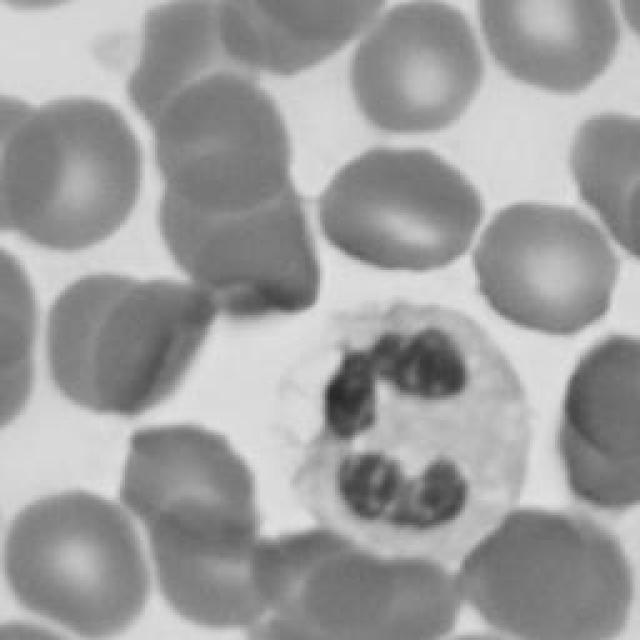RBC: (465, 506, 633, 636), (314, 148, 481, 278), (4, 488, 151, 634), (155, 202, 325, 322), (14, 98, 144, 252), (342, 0, 486, 138), (126, 0, 263, 142), (479, 200, 616, 335), (154, 79, 294, 201), (99, 285, 219, 417), (115, 425, 260, 533), (151, 502, 279, 622), (45, 268, 153, 408), (478, 0, 620, 90), (220, 0, 382, 68), (250, 530, 382, 612), (565, 106, 640, 246), (330, 554, 458, 636), (562, 334, 640, 454), (557, 407, 640, 514), (0, 95, 62, 230), (0, 249, 38, 369), (0, 340, 35, 428)
WBC: (276, 299, 536, 556)
